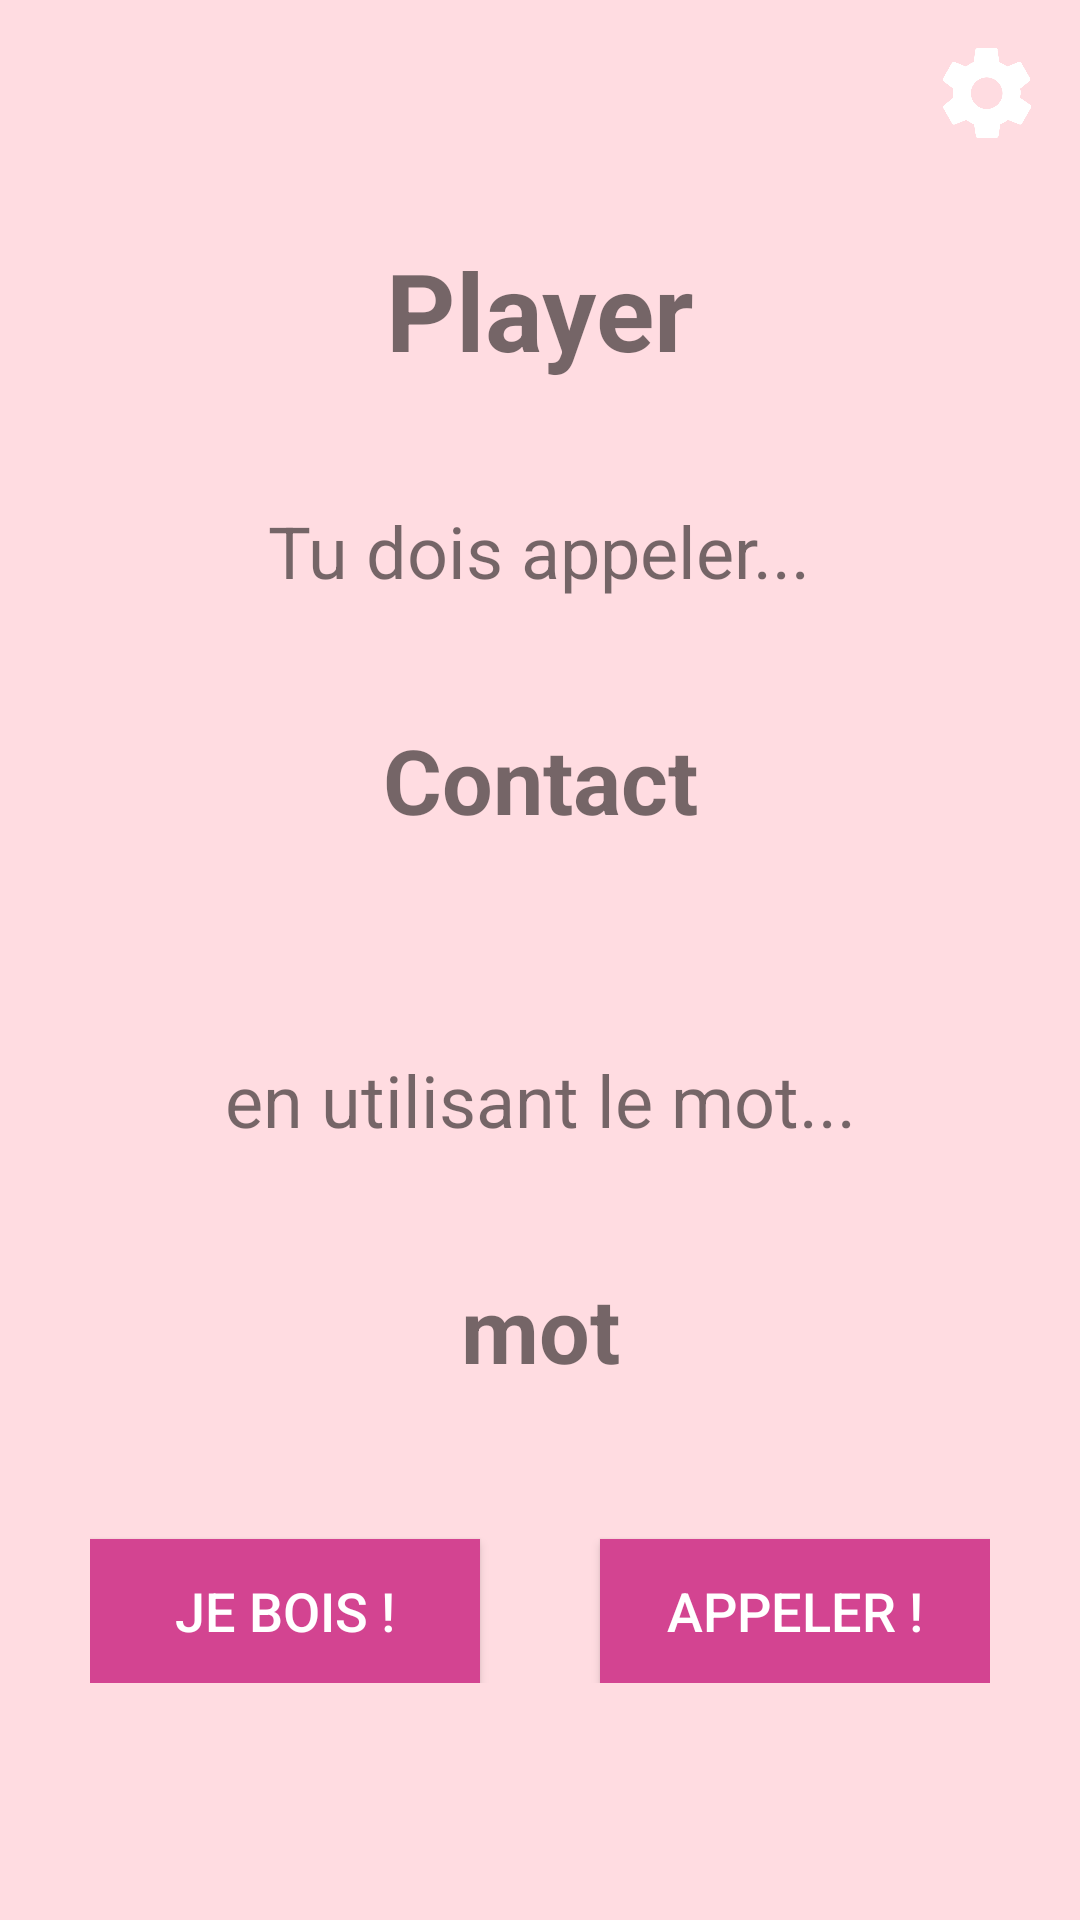

Where icons sit on this 1080px x 1920px app screen, as (x1, y1, x2, y2):
preference: (943, 48, 1031, 138)
